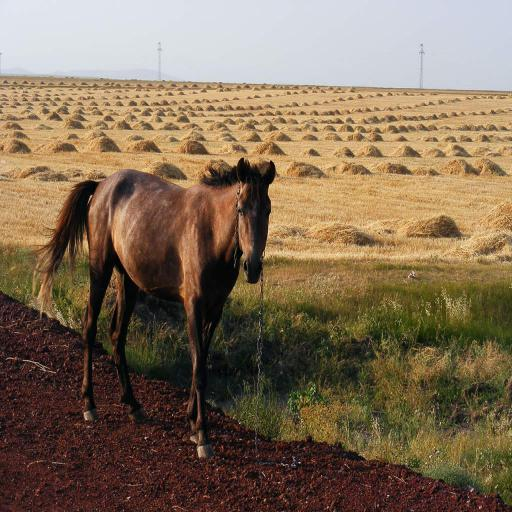Horse: (30, 158, 276, 464)
